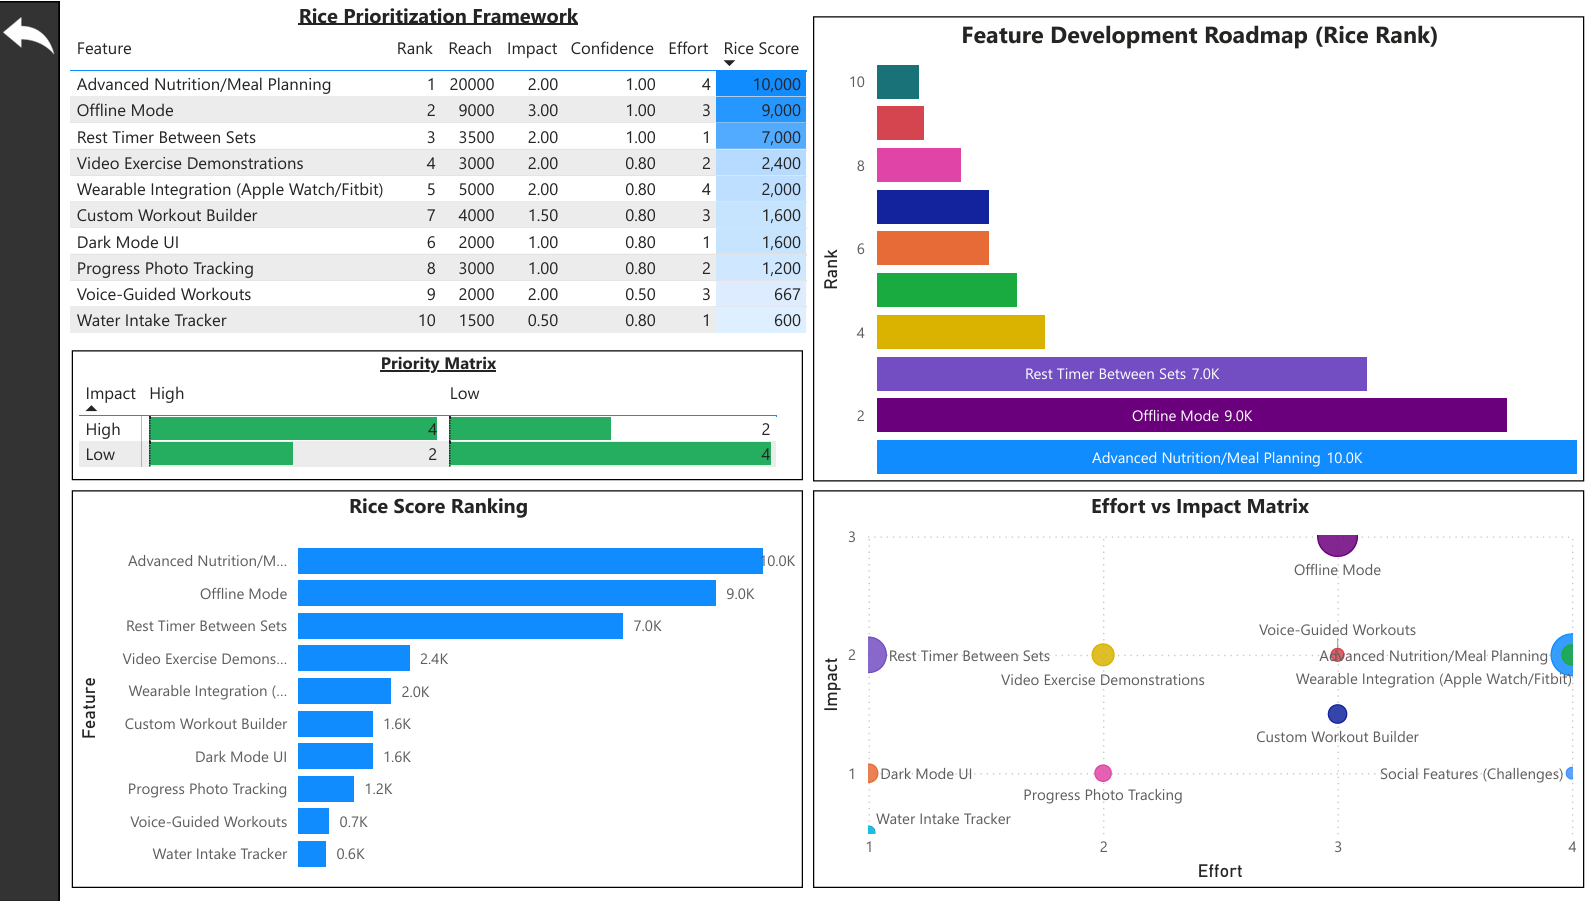

The page's visual inventory and layout, read from the dashboard file:
{"tool":"powerbi","page":{"name":"Rice Prioritization","canvas":[1280,720],"ordinal":4},"visuals":[{"type":"clusteredBarChart","title":"Rice Score Ranking","fields":{"Y":["Sum(rice_scores.RICE_Score)"],"Category":["rice_scores.Feature"]},"box":[58.7,390.7,584.9,317.6],"z":0},{"type":"scatterChart","title":"Effort vs Impact Matrix","fields":{"X":["Sum(rice_scores.Effort)"],"Y":["Sum(rice_scores.Impact)"],"Series":["rice_scores.Feature"],"Size":["Sum(rice_scores.RICE_Score)"]},"box":[652,390.7,617.2,317.6],"z":1000},{"type":"pivotTable","title":"Priority Matrix","fields":{"Rows":["rice_scores.Impact_Bin"],"Columns":["rice_scores.Effort_Bin"],"Values":["CountNonNull(rice_scores.Feature)"]},"box":[58.7,279.3,584.9,104.3],"z":2000},{"type":"barChart","title":"Feature Development Roadmap (Rice Rank)","fields":{"Series":["rice_scores.Feature"],"Category":["rice_scores.Rank"],"Y":["Sum(rice_scores.RICE_Score)"]},"box":[652,12,617.2,371.5],"z":3000},{"type":"tableEx","title":"Rice Prioritization Framework","fields":{"Values":["rice_scores.Feature","Sum(rice_scores.Rank)","Sum(rice_scores.Reach)","Sum(rice_scores.Impact)","Sum(rice_scores.Confidence)","Sum(rice_scores.Effort)","Sum(rice_scores.RICE_Score)"]},"box":[51.5,0,600.4,270.9],"z":4000},{"type":"shape","box":[0,0,49.1,720.3],"z":5000},{"type":"image","box":[0,0,49.1,55.1],"z":6000}]}

Visuals, with their boxes in screenshot pixels (x1, y1, x2, y2):
"Rice Score Ranking" clusteredBarChart: <box>68,488,787,879</box>
"Effort vs Impact Matrix" scatterChart: <box>797,488,1556,879</box>
"Priority Matrix" pivotTable: <box>68,352,787,480</box>
"Feature Development Roadmap (Rice Rank)" barChart: <box>797,23,1556,480</box>
"Rice Prioritization Framework" tableEx: <box>59,8,797,341</box>
shape: <box>0,8,56,893</box>
image: <box>0,8,56,76</box>
